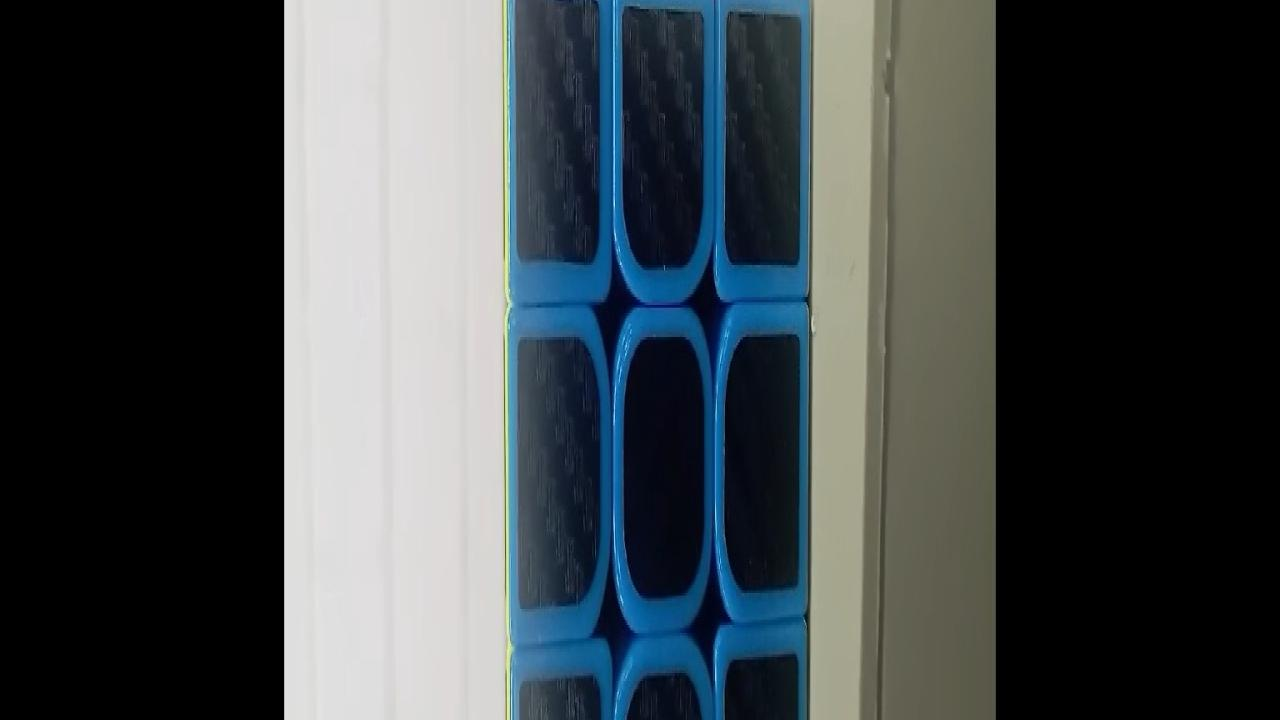Cube: (501, 0, 811, 720)
